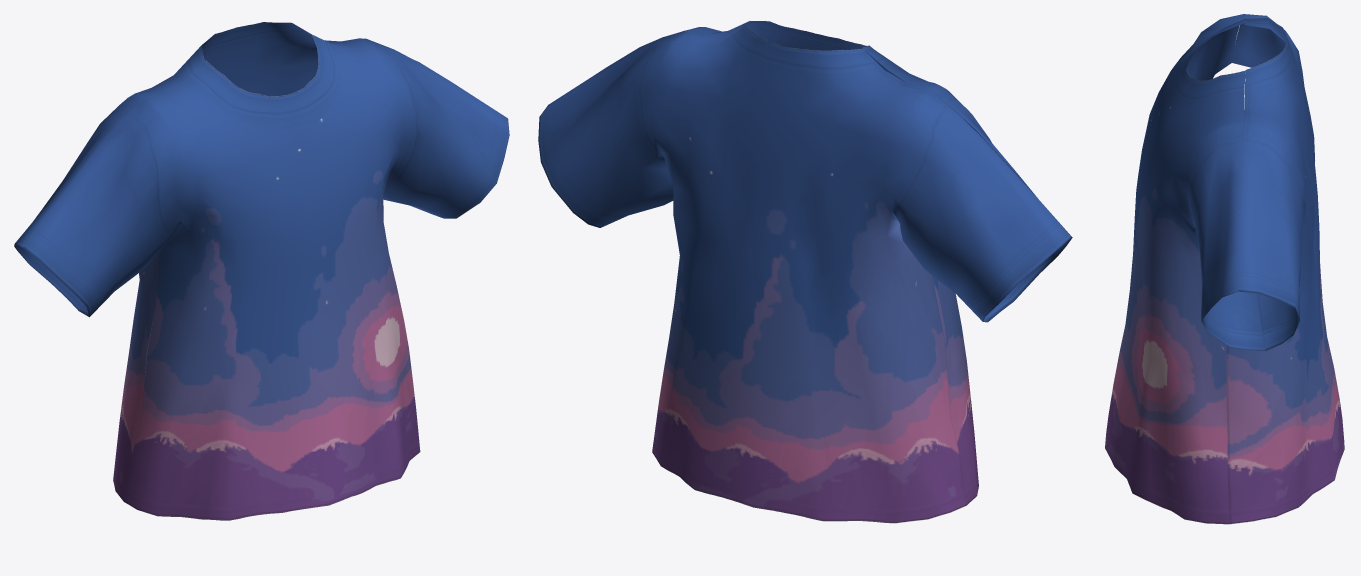
The model's file is 54_tshirt_a.glb.
3 renders of one model, left to right at view 1: azimuth 30°, elevation 25°; view 2: azimuth 150°, elevation 25°; view 3: azimuth 270°, elevation 25°, orthographic. The views are drawn at different scales.
Visible parts, largest first — view 1: tshirt_apose; view 2: tshirt_apose; view 3: tshirt_apose.
Part boxes in pixels (x1=…): tshirt_apose: x1=14, y1=22, x2=509, y2=520; tshirt_apose: x1=538, y1=21, x2=1072, y2=523; tshirt_apose: x1=1105, y1=14, x2=1344, y2=524.
Bounding box in the file's own units: 0.7679 × 0.704 × 0.3368.
1 material, 1 textured.
